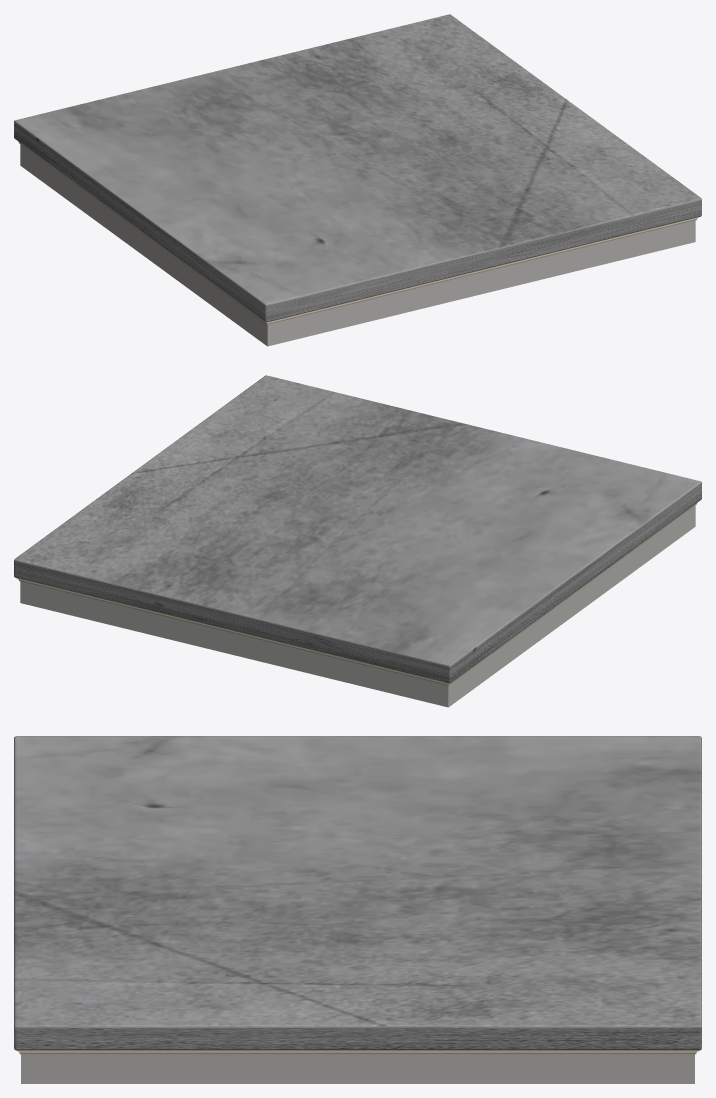
The model's file is microtopping.glb.
3 views of the same model, one above another, from view 1: azimuth 30°, elevation 25°; view 2: azimuth 150°, elevation 25°; view 3: azimuth 270°, elevation 25° (orthographic). The views are drawn at different scales.
Visible parts, largest first — view 1: body.001, mesh-layer.001; view 2: body.001, mesh-layer.001; view 3: body.001, mesh-layer.001.
Boxes of the visible parts, box(x1,y1,x2,y2) form: body.001: box(14, 14, 701, 322); mesh-layer.001: box(18, 141, 699, 346); body.001: box(14, 375, 701, 683); mesh-layer.001: box(16, 502, 697, 707); body.001: box(14, 736, 701, 1050); mesh-layer.001: box(16, 1050, 699, 1083).
Size of the model in its own units: 0.297 by 0.029 by 0.297.
Materials: 2 (2 with a texture image).
